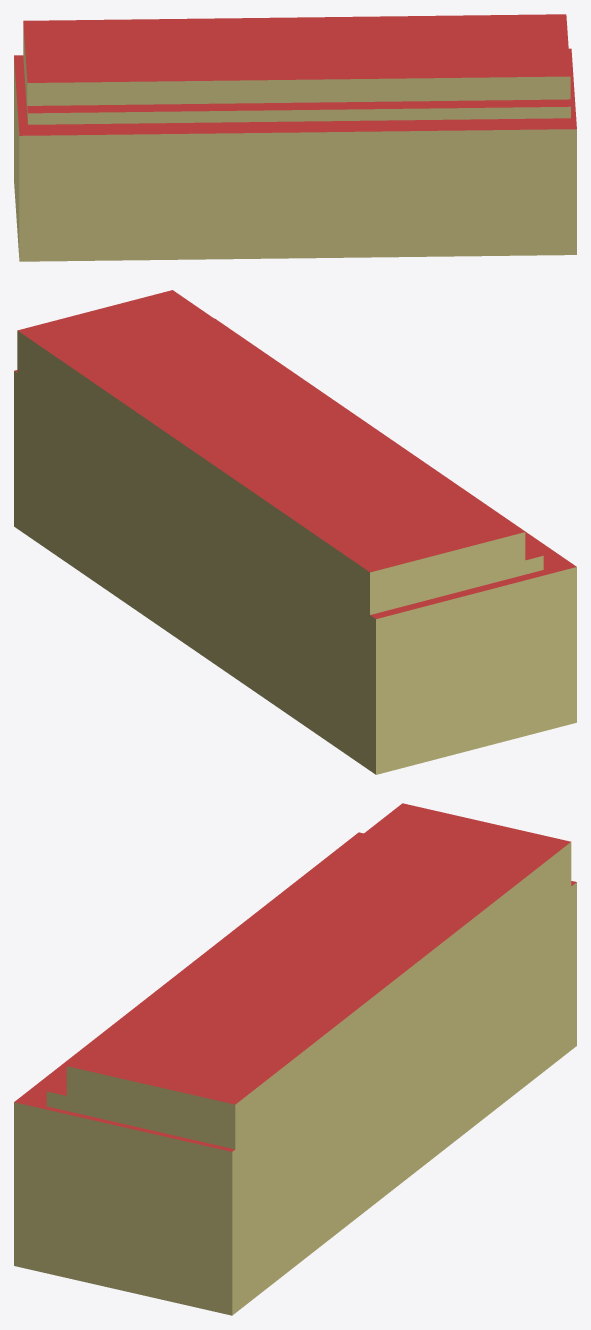
The picture shows the model from 3 angles, top to bottom: view 1: azimuth 30°, elevation 25°; view 2: azimuth 150°, elevation 25°; view 3: azimuth 270°, elevation 25°; orthographic projection. The views are drawn at different scales.
Parts seen in each view (by area): view 1: group_10, group_3, group_4, group_9, group_7, group_6; view 2: group_4, group_3, group_10, group_9; view 3: group_4, group_3, group_10, group_9.
Boxes of the visible parts, <box> form: group_10: <box>14,58,576,261</box>; group_3: <box>23,14,570,82</box>; group_4: <box>23,25,570,113</box>; group_9: <box>14,48,576,135</box>; group_7: <box>27,106,570,124</box>; group_6: <box>27,99,570,113</box>; group_4: <box>17,330,525,770</box>; group_3: <box>17,290,524,572</box>; group_10: <box>14,371,576,774</box>; group_9: <box>14,318,576,618</box>; group_4: <box>66,842,571,1312</box>; group_3: <box>67,803,570,1104</box>; group_10: <box>14,882,576,1315</box>; group_9: <box>14,832,576,1151</box>.
Bounding box in the file's own units: 50.78 × 37.79 × 15.45.
